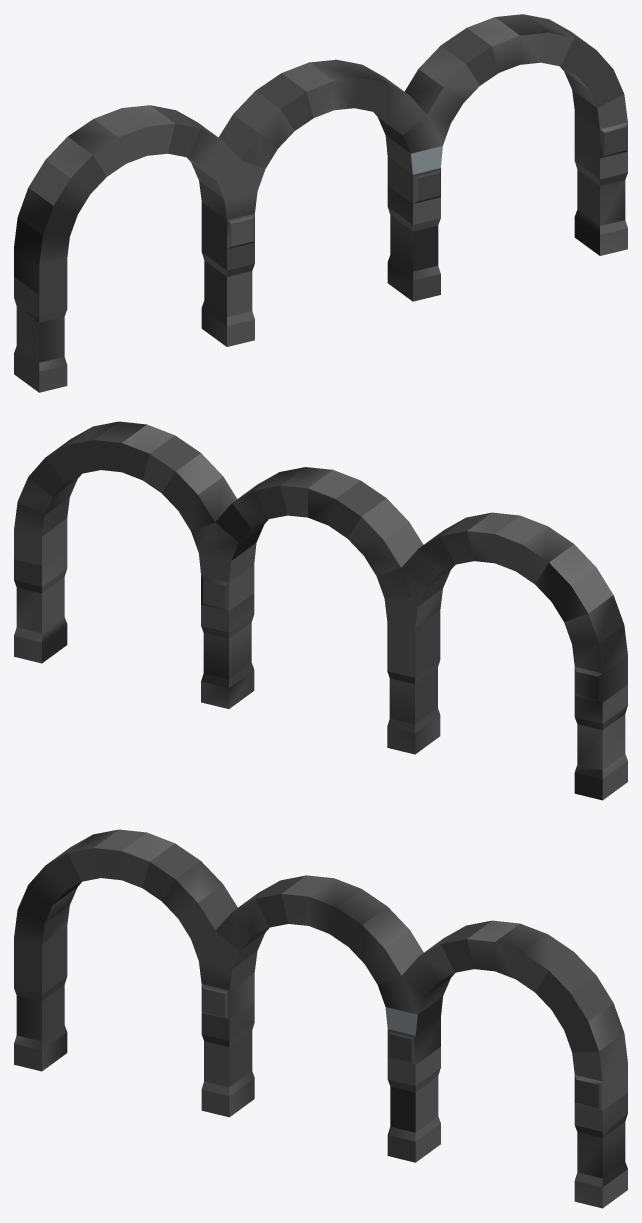
The model's file is triple_arch.glb.
The picture shows the model from 3 angles, top to bottom: view 1: azimuth 30°, elevation 25°; view 2: azimuth 150°, elevation 25°; view 3: azimuth 330°, elevation 25°; orthographic projection.
Parts seen in each view (by area): view 1: Cube; view 2: Cube; view 3: Cube.
Boxes of the visible parts, x1=… form: Cube: x1=14, y1=14, x2=627, y2=392; Cube: x1=14, y1=421, x2=627, y2=800; Cube: x1=14, y1=829, x2=627, y2=1208.
Bounding box in the file's own units: 6.31 × 2.46 × 0.5237.
1 material, 1 textured.
